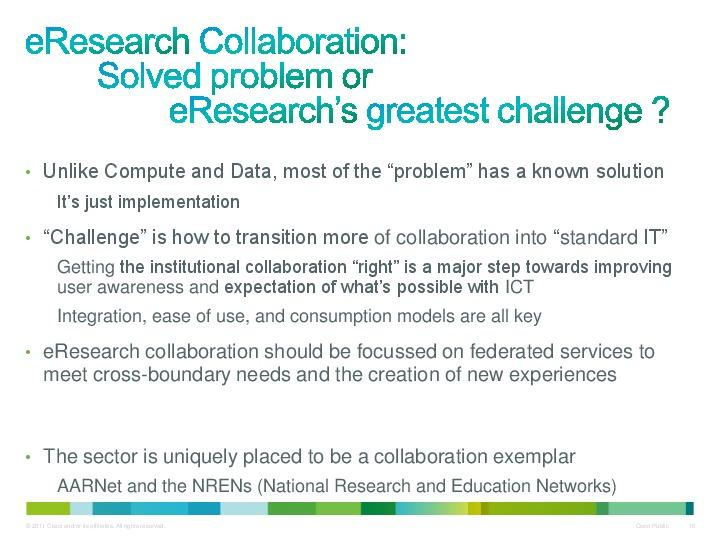paragraph: (16, 148, 689, 498)
title: (17, 14, 684, 137)
